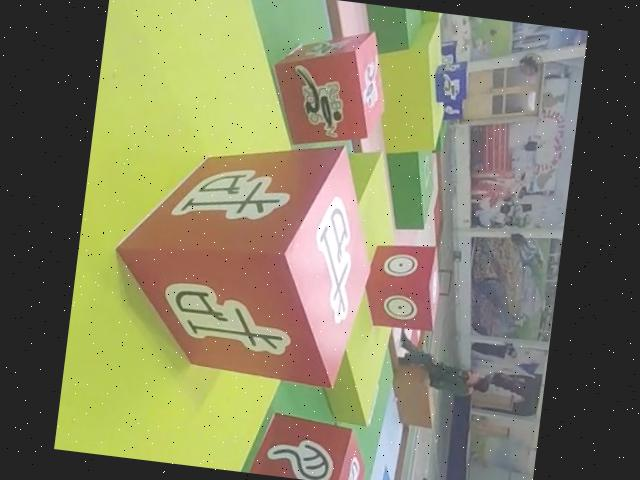R1: (262, 19, 395, 158)
R2 Fake: (238, 407, 370, 480)
R2 Real: (102, 118, 383, 395), (360, 239, 440, 336)
